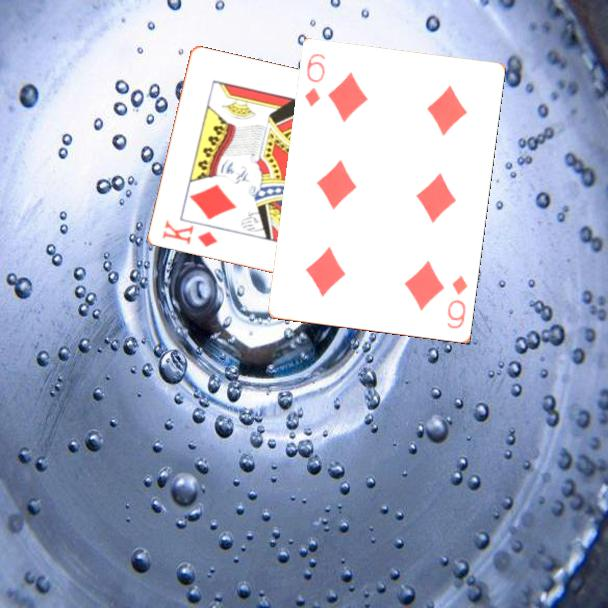d06: (444, 272, 471, 332), (302, 50, 328, 110)
d13: (158, 216, 220, 250)
